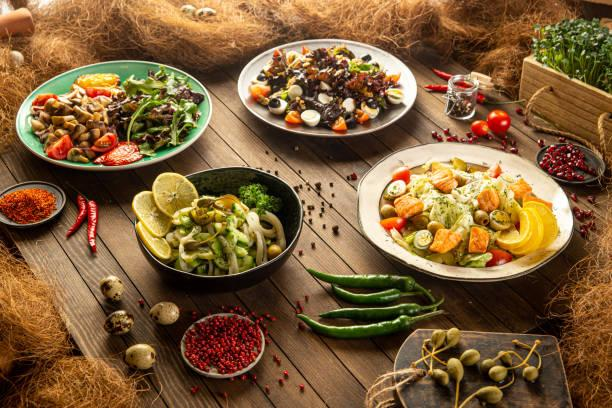Braised Crucian Carp: (355, 142, 572, 281), (15, 60, 209, 170), (136, 165, 301, 288), (236, 39, 413, 139)
